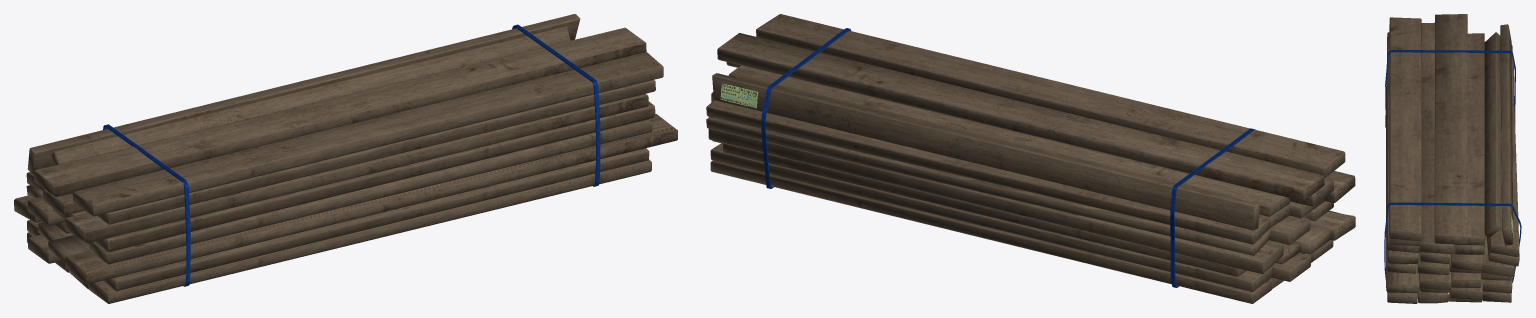
Rendered from PlankPile_low.fbx.
The picture shows the model from 3 angles, left to right: view 1: azimuth 30°, elevation 25°; view 2: azimuth 150°, elevation 25°; view 3: azimuth 270°, elevation 25°; orthographic projection. The views are drawn at different scales.
Parts seen in each view (by area): view 1: PlankPile_LOD0; view 2: PlankPile_LOD0; view 3: PlankPile_LOD0.
Part boxes in pixels (box(x1,y1,x2,y2)): PlankPile_LOD0: box(14, 14, 677, 303); PlankPile_LOD0: box(706, 14, 1355, 303); PlankPile_LOD0: box(1384, 14, 1521, 303).
Size of the model in its own units: 433 by 73.32 by 113.
